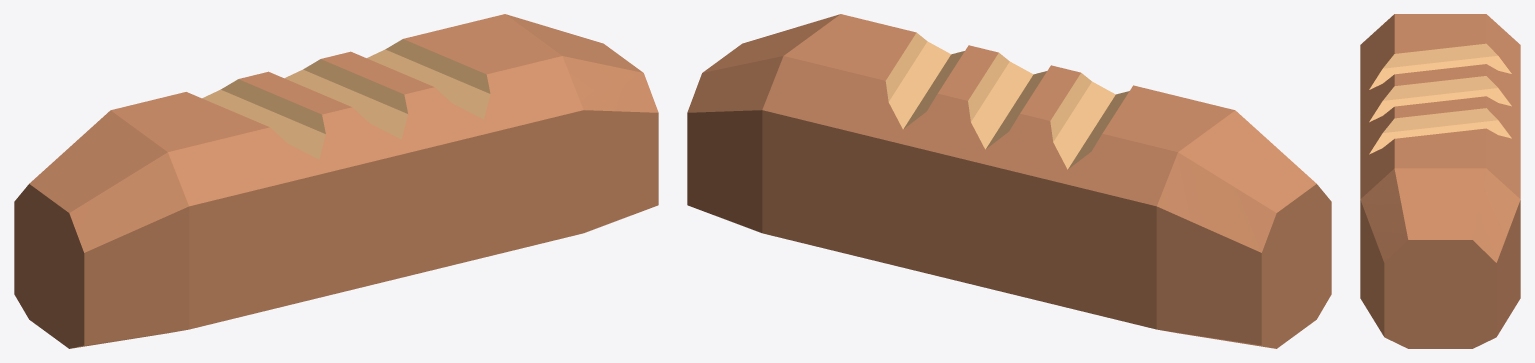
File: loafBaguette.fbx
The picture shows the model from 3 angles, left to right: view 1: azimuth 30°, elevation 25°; view 2: azimuth 150°, elevation 25°; view 3: azimuth 270°, elevation 25°; orthographic projection. The views are drawn at different scales.
Parts seen in each view (by area): view 1: loafBaguette; view 2: loafBaguette; view 3: loafBaguette.
Boxes of the visible parts, bbox=[...] form: loafBaguette: bbox=[14, 14, 658, 348]; loafBaguette: bbox=[687, 14, 1331, 348]; loafBaguette: bbox=[1360, 14, 1520, 348].
Bounding box in the file's own units: 8.3 × 2.5 × 2.5.
